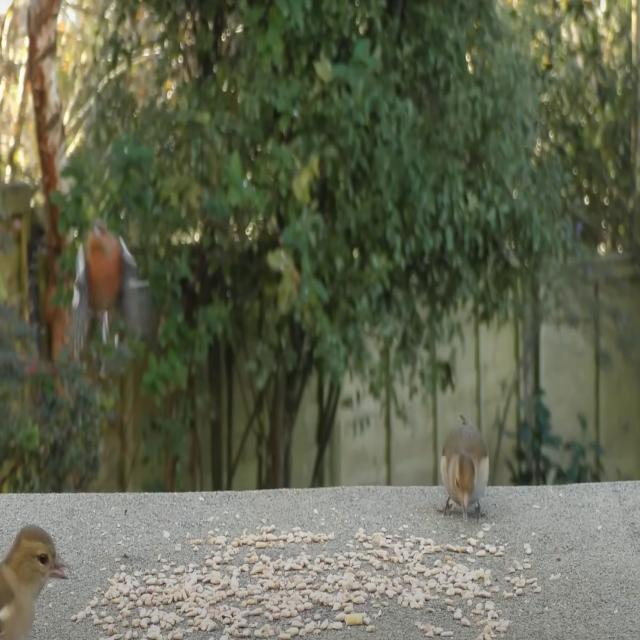beak: (49, 549, 68, 584), (458, 488, 473, 528)
bird: (61, 214, 148, 388), (1, 519, 68, 640), (436, 410, 490, 522)
